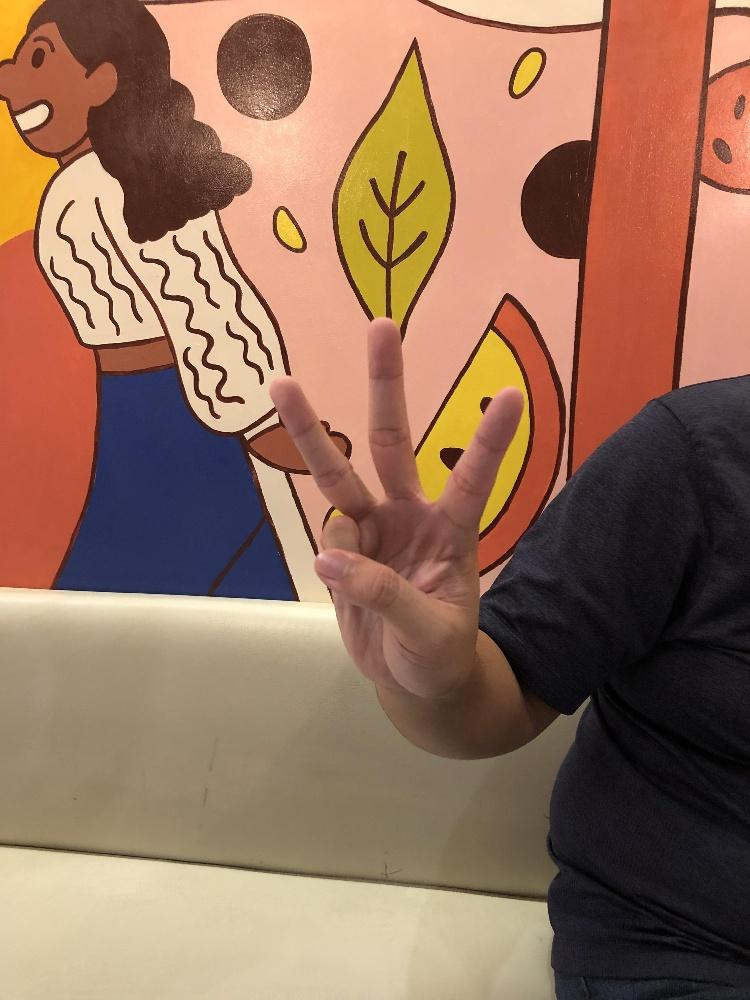w: (268, 316, 525, 699)
